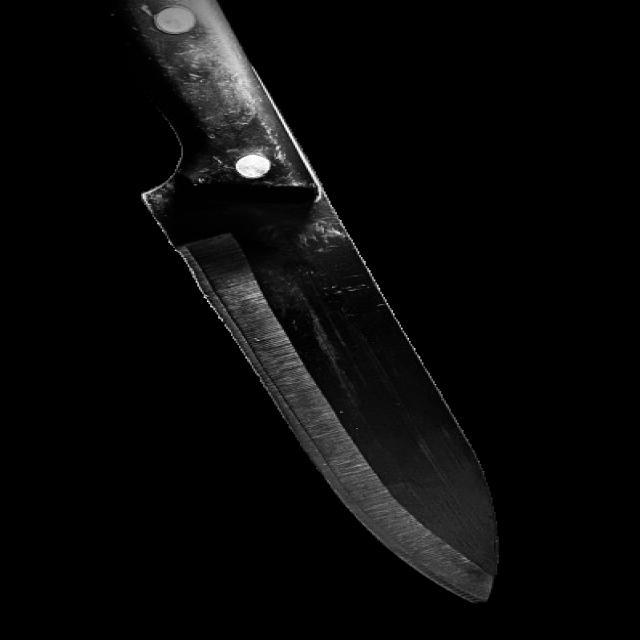knife: (94, 0, 511, 614)
